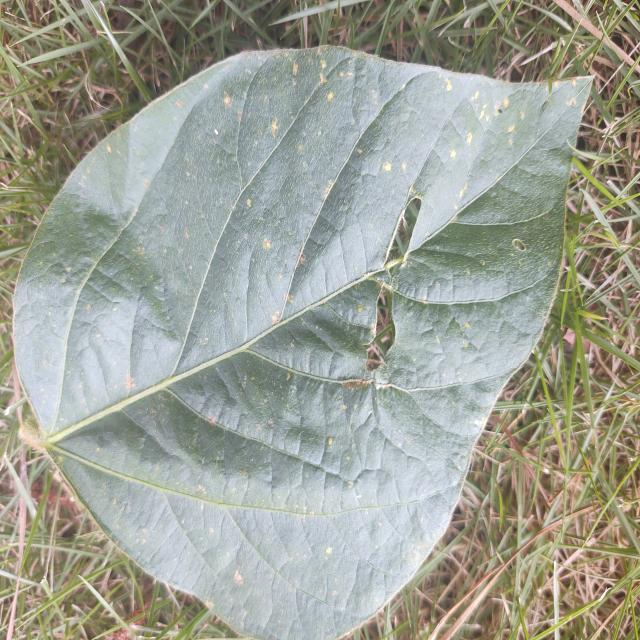Soybean: (11, 45, 593, 640)
downey_mildew: (58, 473, 238, 616), (34, 260, 146, 422), (339, 472, 435, 627), (140, 163, 230, 317), (235, 49, 328, 198), (405, 388, 497, 537), (419, 213, 560, 304), (217, 352, 317, 458), (420, 302, 516, 406), (240, 213, 312, 337), (119, 391, 217, 482), (126, 266, 189, 392), (408, 357, 503, 440), (459, 155, 567, 226), (391, 142, 455, 258), (228, 500, 313, 586), (524, 82, 593, 180), (253, 222, 320, 314), (366, 388, 437, 474), (302, 268, 391, 317), (420, 469, 473, 550), (301, 306, 369, 365), (452, 205, 557, 230)
